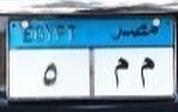5: (38, 57, 60, 88)
meem: (111, 55, 130, 89), (138, 54, 155, 88)
